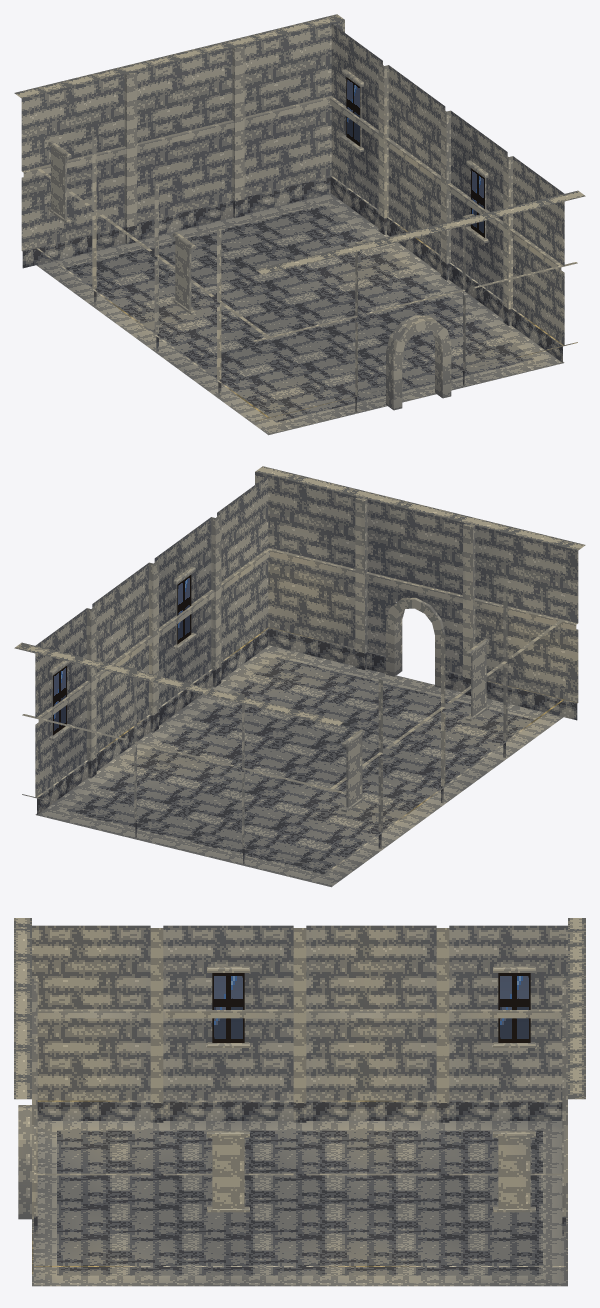
File: cst.hall__great.glb
3 renders of one model, top to bottom at view 1: azimuth 30°, elevation 25°; view 2: azimuth 150°, elevation 25°; view 3: azimuth 270°, elevation 25°, orthographic. The views are drawn at different scales.
Visible parts, largest first — view 1: kit_shell_walls, kit_shell_floor, kit_fittings; view 2: kit_shell_walls, kit_shell_floor, kit_fittings; view 3: kit_shell_walls, kit_shell_floor, kit_fittings.
Boxes of the visible parts, left/top/right/bottom form: kit_shell_walls: left=14, top=14, right=585, bottom=421; kit_shell_floor: left=36, top=193, right=564, bottom=435; kit_fittings: left=48, top=69, right=488, bottom=410; kit_shell_walls: left=14, top=466, right=585, bottom=873; kit_shell_floor: left=35, top=645, right=563, bottom=887; kit_fittings: left=49, top=567, right=489, bottom=812; kit_shell_walls: left=14, top=918, right=585, bottom=1274; kit_shell_floor: left=32, top=1121, right=567, bottom=1286; kit_fittings: left=18, top=966, right=535, bottom=1219.
Bounding box in the file's own units: 12 × 6 × 16.
5 materials, 5 textured.
